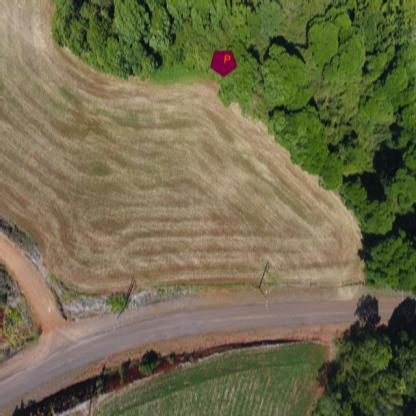P: (220, 53, 232, 67)
pentagon: (209, 43, 238, 82)
